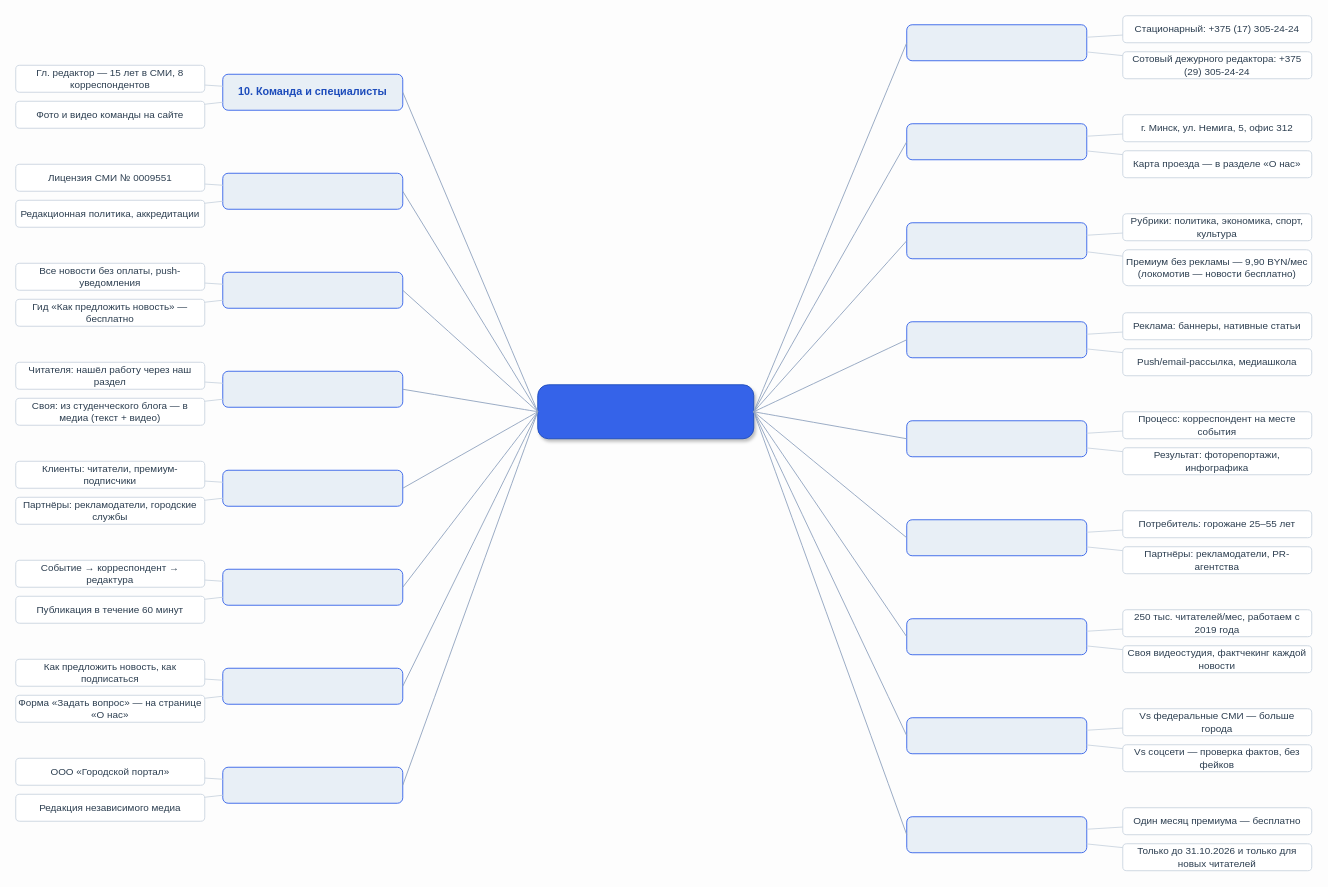
Image size: 1328x887. Some labels were removed from this diagram. The shapes that lost their labels are listed below. From the top down, each one's centre as x and y in pixels, then its label:
(x=996, y=42): 1. Телефоны
(x=996, y=141): 2. Фактический адрес
(x=312, y=190): 11. Документы
(x=996, y=240): 3. Продукты и услуги
(x=312, y=289): 12. Бесплатность
(x=996, y=339): 4. Дополнительные услуги
(x=312, y=388): 13. Продающие истории
(x=646, y=412): Новостной портал «Город24»
(x=996, y=438): 5. Изображения
(x=312, y=487): 14. С кем работаем
(x=996, y=537): 6. Для кого, кто клиент
(x=312, y=586): 15. Схема работы
(x=996, y=636): 7. Преимущества
(x=312, y=685): 16. Частые вопросы
(x=996, y=735): 8. Сравнение с конкурентами
(x=312, y=784): 17. Форма собственности
(x=996, y=834): 9. Акция
